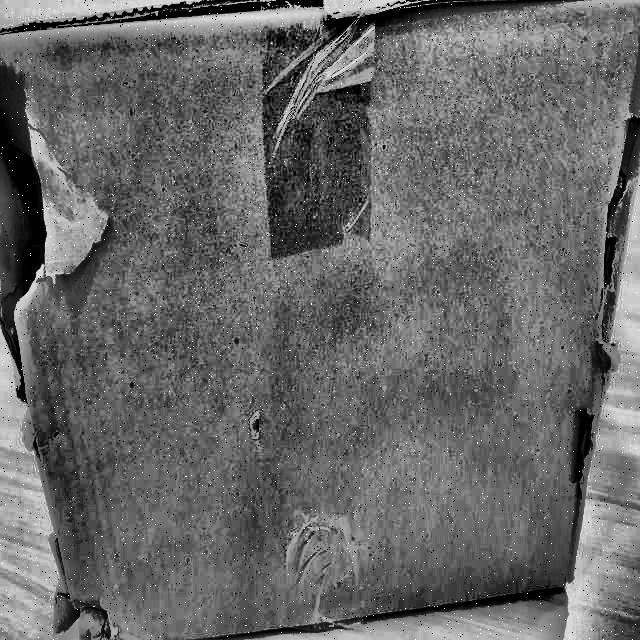box: (1, 0, 640, 639)
hole: (1, 28, 53, 382), (580, 116, 639, 354), (41, 590, 120, 640), (570, 402, 600, 492)
